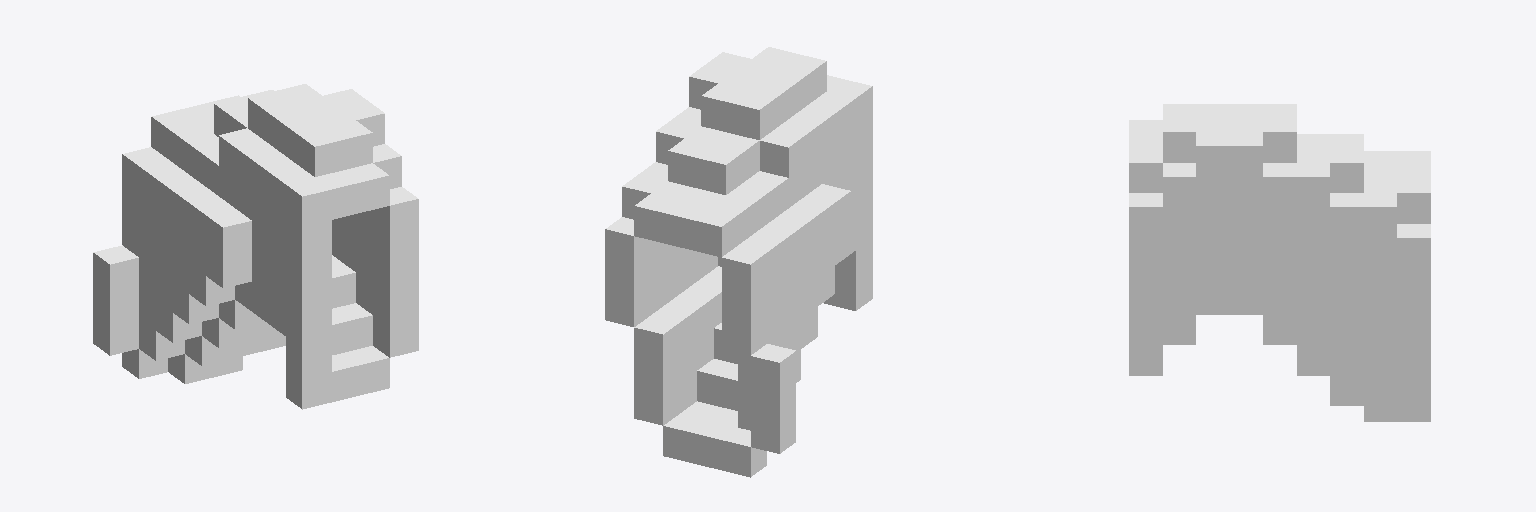
File: blackbearfoot.obj
The picture shows the model from 3 angles: view 1: azimuth 30°, elevation 25°; view 2: azimuth 150°, elevation 25°; view 3: azimuth 270°, elevation 25°; orthographic projection.
Parts seen in each view (by area): view 1: blackbear.003; view 2: blackbear.003; view 3: blackbear.003.
Part boxes in pixels (x1,y1,x2,y2): blackbear.003: (93,84,418,409); blackbear.003: (605,47,872,477); blackbear.003: (1129,104,1430,421).
Size of the model in its own units: 6 by 10 by 9.